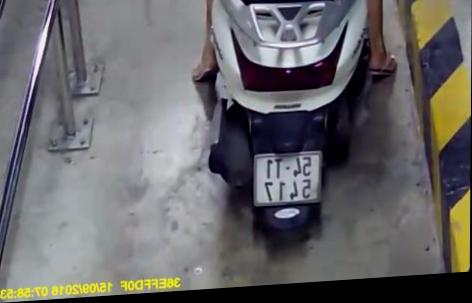License_Plate: (245, 145, 331, 214)
